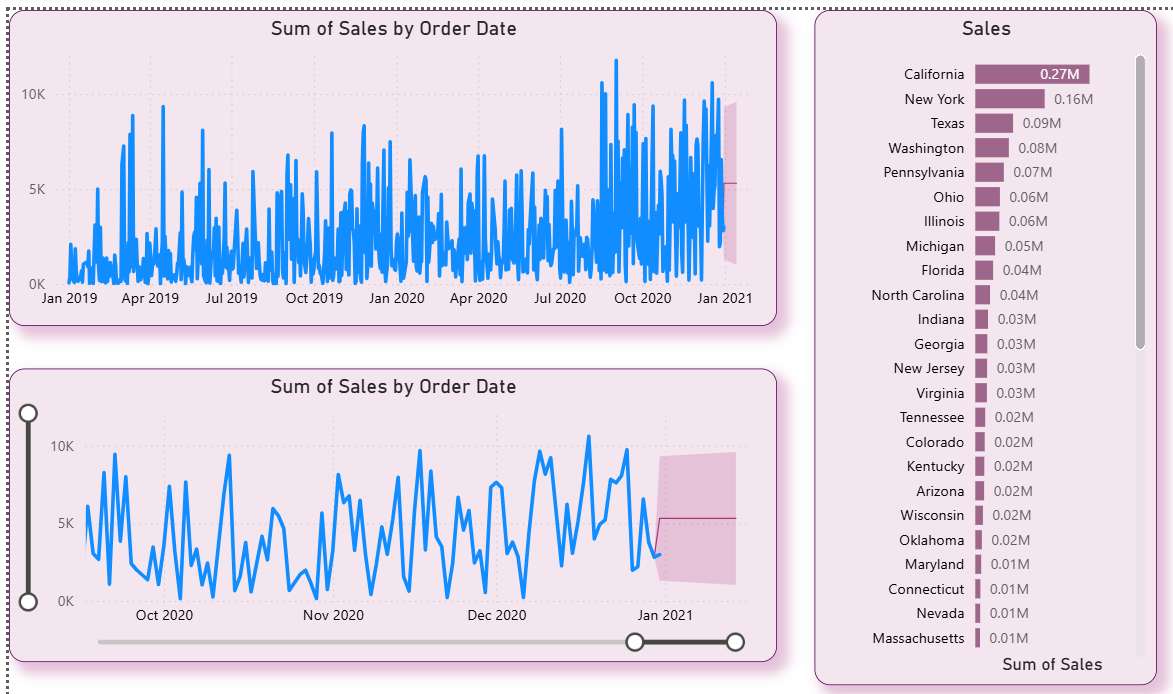

Layout of this report page (visuals, bound fields, positions):
{"tool":"powerbi","page":{"name":"Page 2","canvas":[1280,720],"ordinal":1},"visuals":[{"type":"lineChart","fields":{"Y":["Sum(SuperStore_Sales_Dataset.Sales)"],"Category":["SuperStore_Sales_Dataset.Order Date"]},"box":[0,0,640.2,263.4],"z":0},{"type":"lineChart","fields":{"Y":["Sum(SuperStore_Sales_Dataset.Sales)"],"Category":["SuperStore_Sales_Dataset.Order Date"]},"box":[0,298.8,639.8,244.6],"z":1000},{"type":"clusteredBarChart","title":"Sales ","fields":{"Y":["Sum(SuperStore_Sales_Dataset.Sales)"],"Category":["SuperStore_Sales_Dataset.State"]},"box":[671.1,0,285.5,562.7],"z":2000}]}

Visuals, with their boxes on the page's 1280x720 design canvas (x1, y1, x2, y2). These are canvas units, not pixel positions in the 1173x694 screenshot, which may show the page scaled, cropped or inside an application window:
lineChart - Sum(SuperStore_Sales_Dataset.Sales) x SuperStore_Sales_Dataset.Order Date: region(0, 0, 640, 263)
lineChart - Sum(SuperStore_Sales_Dataset.Sales) x SuperStore_Sales_Dataset.Order Date: region(0, 299, 640, 543)
"Sales " clusteredBarChart: region(671, 0, 957, 563)
